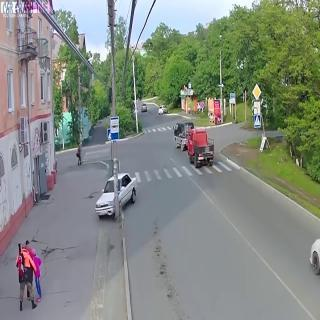single accident: (99, 165, 151, 224)
